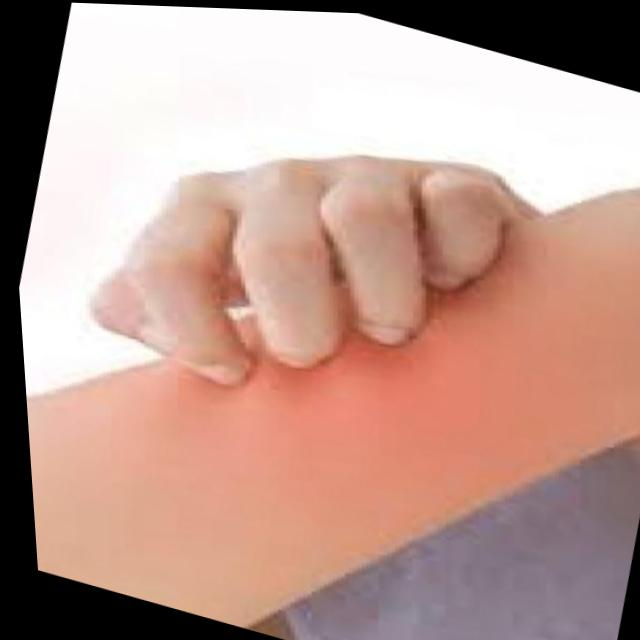Eczema: (149, 204, 591, 601)
